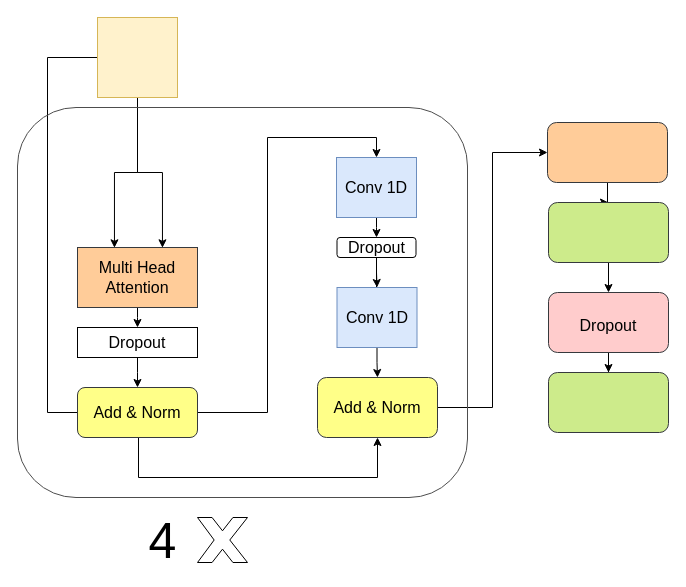
Image size: 686x587. Some labels were removed from this diagram. Here are the shapes that lost their labels. From the top down, the centre of each, then its label:
At point 137,57: "Input".
At point 607,152: "Global Average Pooling".
At point 608,232: "Dense".
At point 608,402: "Dense(output)".
